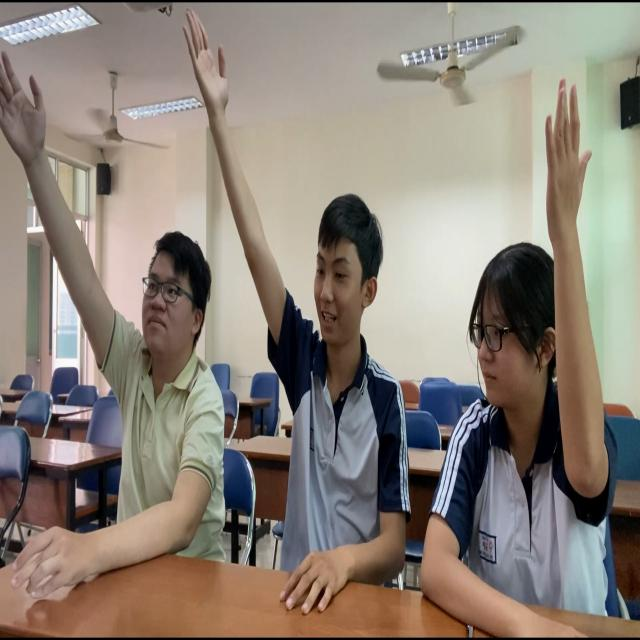raise_hand: (421, 65, 640, 636), (1, 38, 212, 628)
